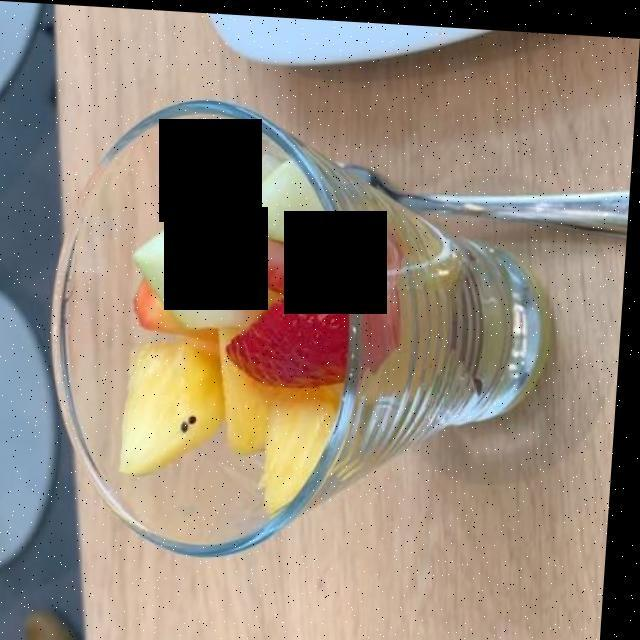fruit-salad: (128, 161, 346, 498)
